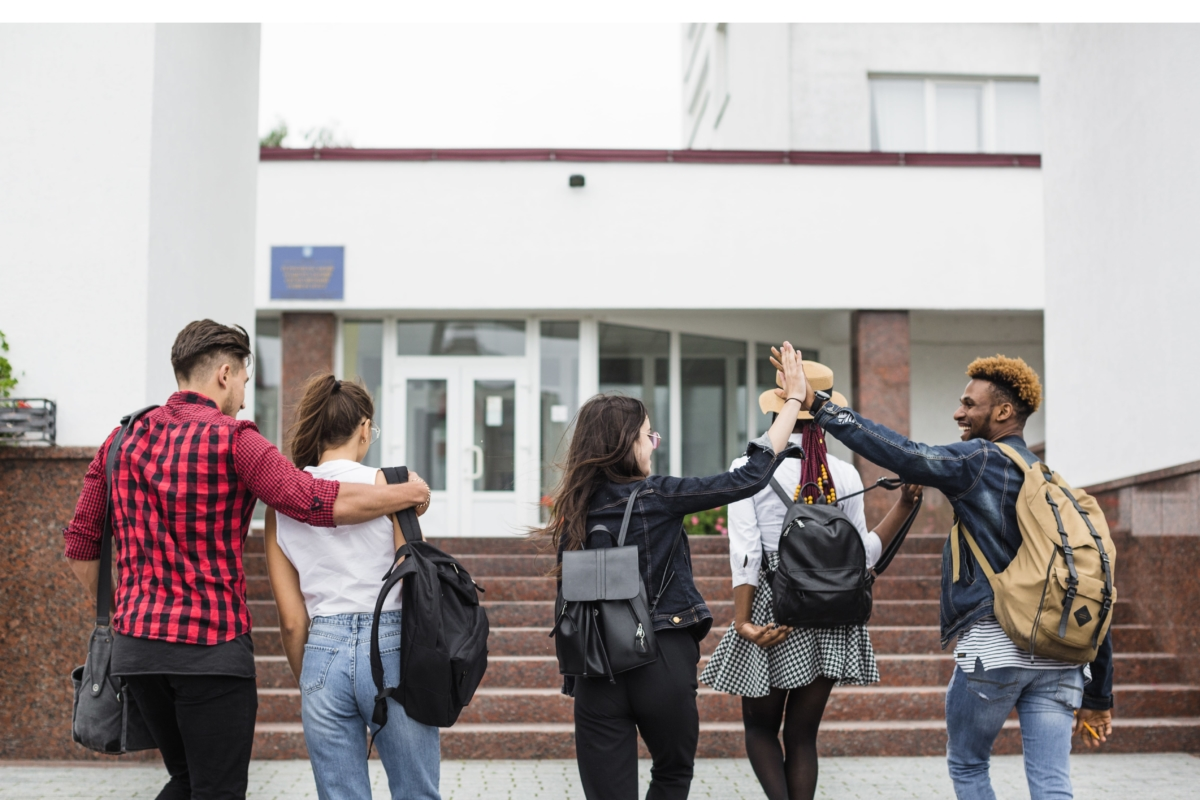students: (64, 316, 433, 791), (769, 343, 1118, 798), (551, 342, 804, 799), (261, 371, 492, 796), (703, 360, 923, 794)
